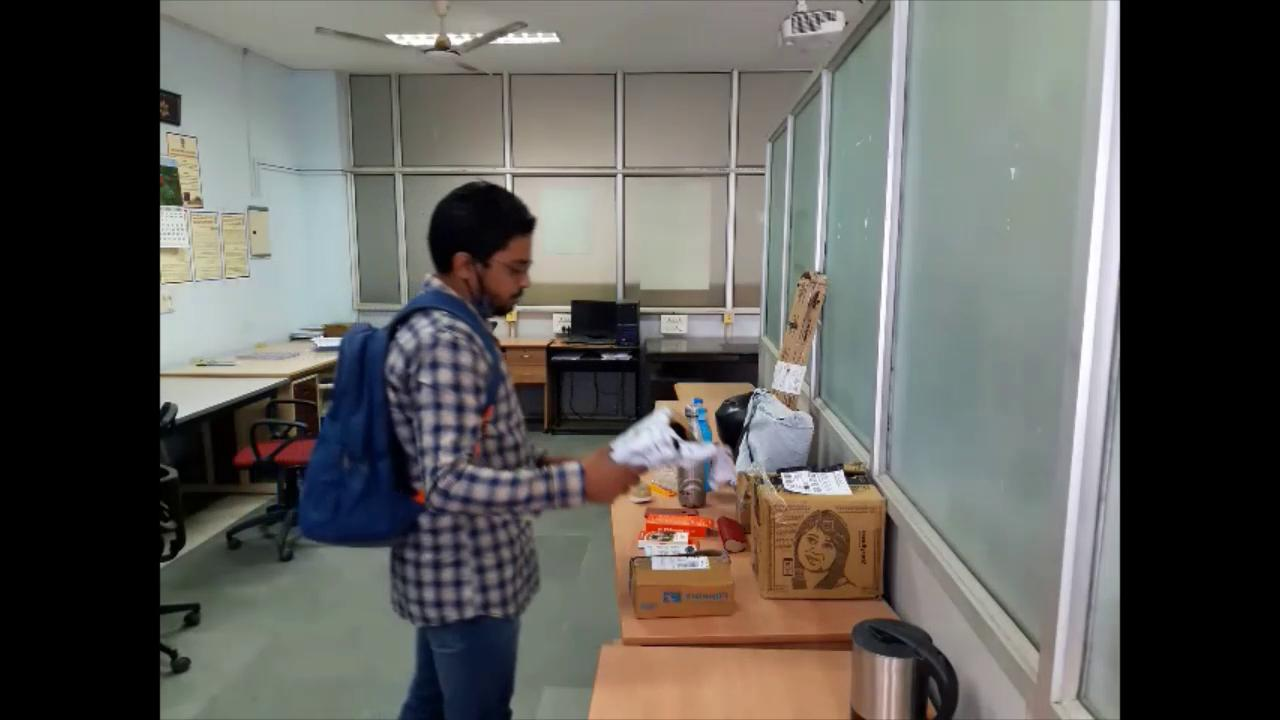Normal: (294, 171, 678, 717)
